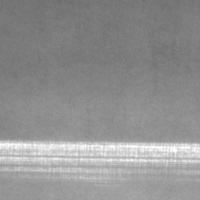scratches: (9, 142, 199, 175)
